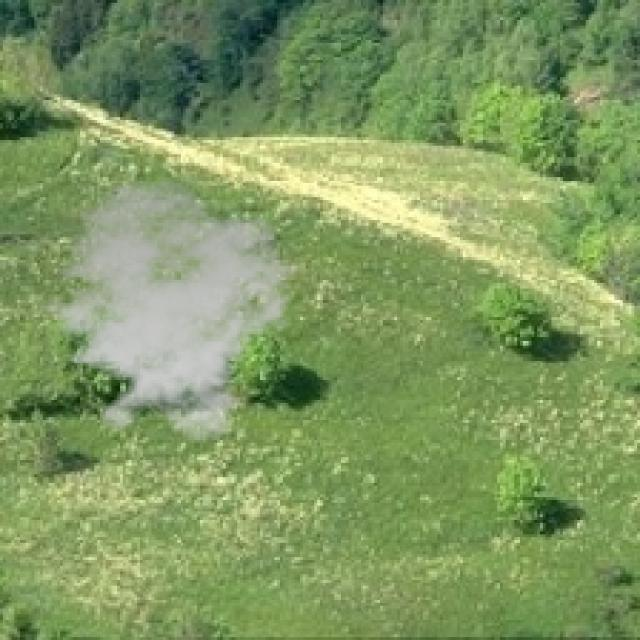Smoke: (23, 177, 303, 446)
